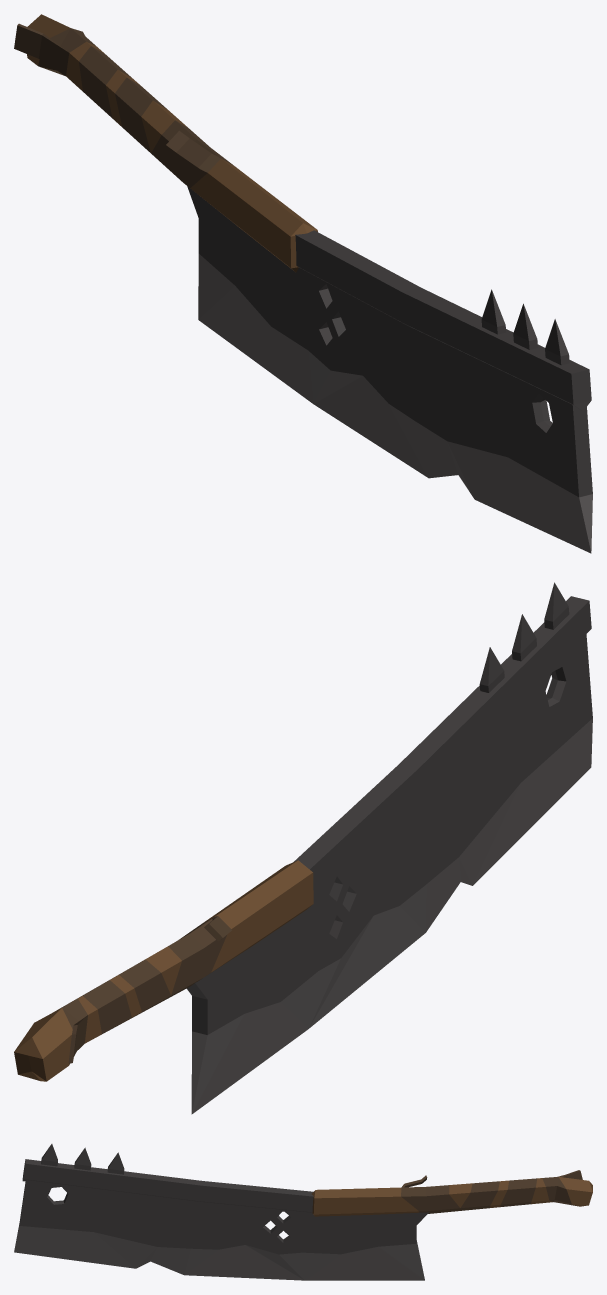
File: SM_Cleaver_Orc.fbx
3 renders of one model, top to bottom at view 1: azimuth 30°, elevation 25°; view 2: azimuth 150°, elevation 25°; view 3: azimuth 270°, elevation 25°, orthographic. The views are drawn at different scales.
Parts seen in each view (by area): view 1: SM_Weapon_Cleaver_Orc; view 2: SM_Weapon_Cleaver_Orc; view 3: SM_Weapon_Cleaver_Orc.
Boxes of the visible parts, x1,y1,x2,y2 form: SM_Weapon_Cleaver_Orc: (14,14,592,553); SM_Weapon_Cleaver_Orc: (14,582,592,1114); SM_Weapon_Cleaver_Orc: (14,1144,592,1280).
Size of the model in its own units: 0.1033 by 0.4832 by 1.85.
